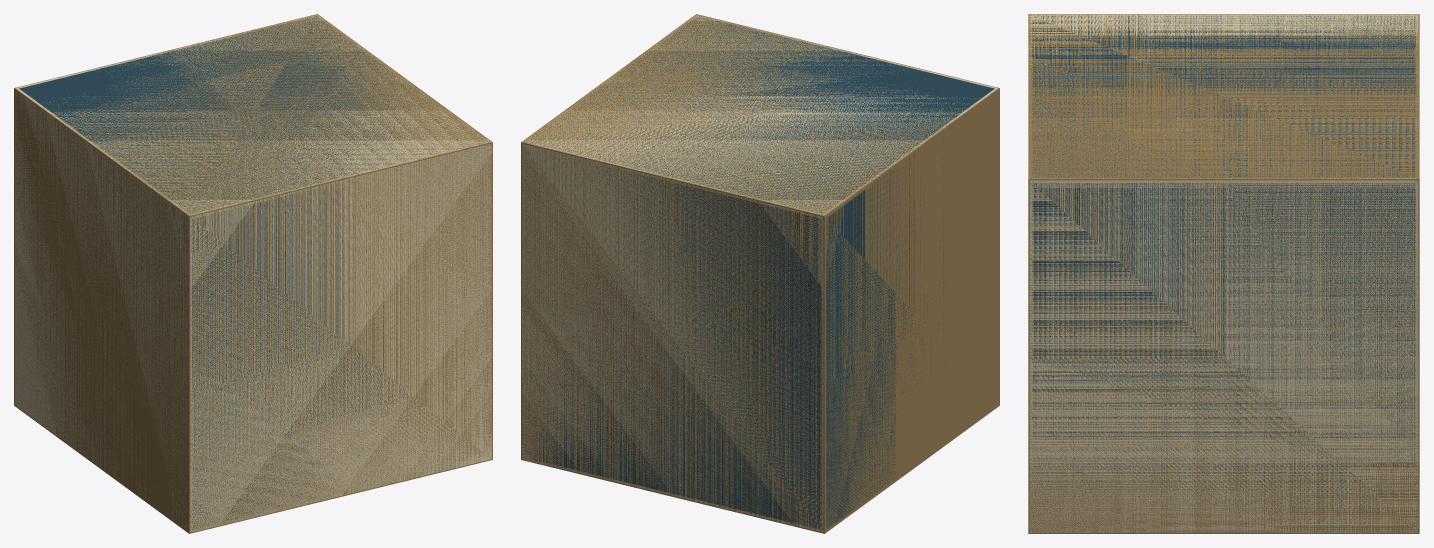
Rendered from Book_Variant_02.fbx.
3 renders of one model, left to right at view 1: azimuth 30°, elevation 25°; view 2: azimuth 150°, elevation 25°; view 3: azimuth 270°, elevation 25°, orthographic. The views are drawn at different scales.
Visible parts, largest first — view 1: Gilded title line.258, Book pages.125, Rounded book spine.125, Raised spine band.408; view 2: Gilded title line.258, Book pages.125, Rounded book spine.125, Raised spine band.408; view 3: Book pages.125, Gilded title line.258, Rounded book spine.125, Raised spine band.408.
Boxes of the visible parts, box(x1,y1,x2,y2) form: Gilded title line.258: box(14, 14, 492, 533); Book pages.125: box(14, 15, 491, 532); Rounded book spine.125: box(16, 16, 461, 528); Raised spine band.408: box(14, 15, 492, 532); Gilded title line.258: box(521, 14, 999, 533); Book pages.125: box(522, 15, 997, 532); Rounded book spine.125: box(525, 17, 994, 529); Raised spine band.408: box(521, 15, 999, 532); Book pages.125: box(1029, 14, 1418, 532); Gilded title line.258: box(1028, 14, 1419, 533); Rounded book spine.125: box(1032, 15, 1415, 529); Raised spine band.408: box(1029, 14, 1418, 469).
Bounding box in the file's own units: 1 × 1 × 1.
